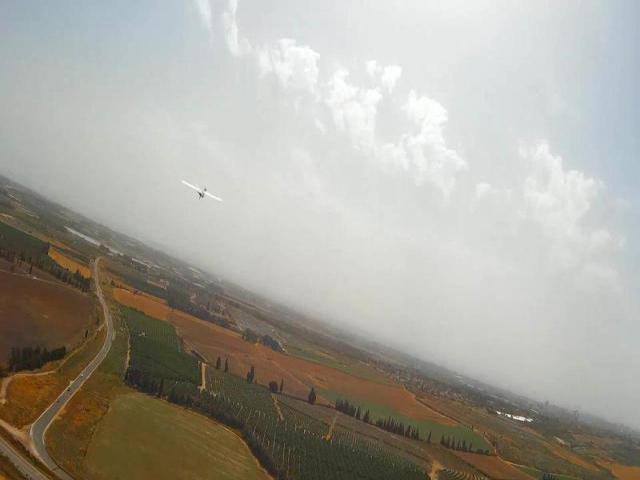hedef: (180, 175, 227, 216)
